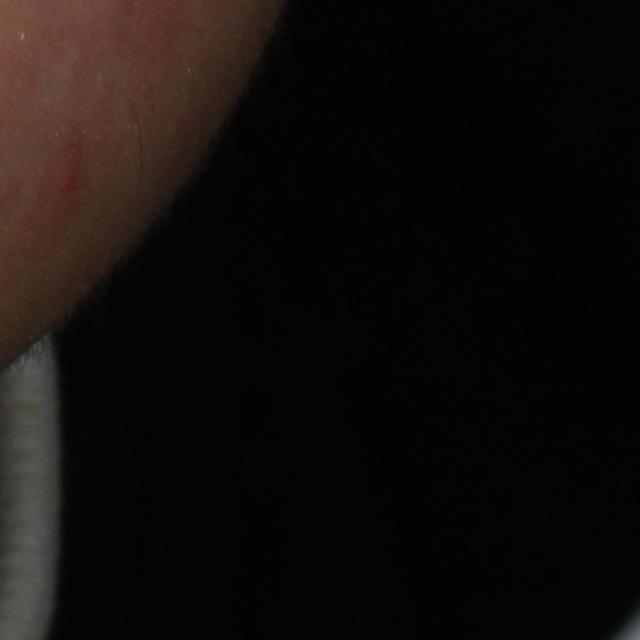papule: (52, 149, 84, 210)
